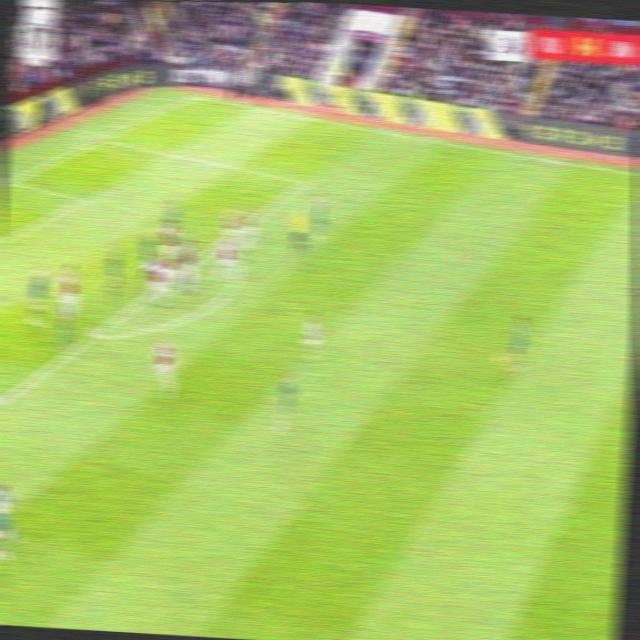bigarea_top_inner: (294, 174, 312, 193)
bigarea_top_outter: (96, 135, 111, 145)
bottom_arc_area_intersection: (85, 328, 103, 345)
corner: (188, 92, 203, 99)
smallarea_top_inner: (73, 192, 91, 207)
smallarea_top_outter: (3, 176, 19, 189)
